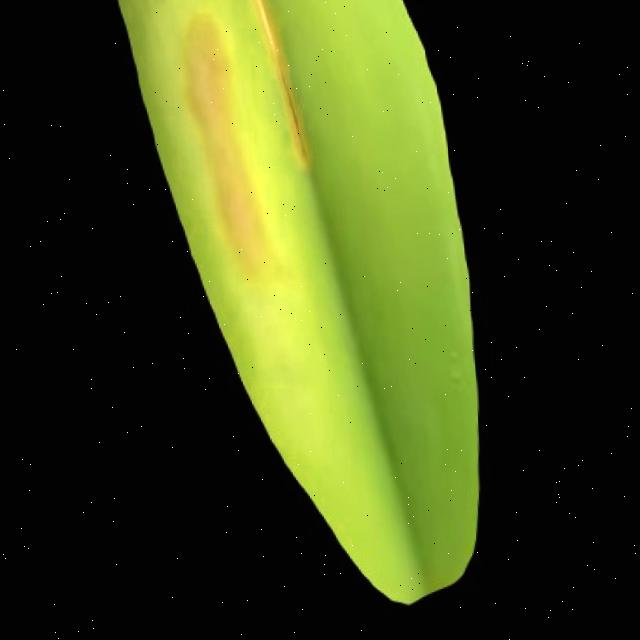mite: (105, 0, 490, 611), (177, 12, 239, 131), (427, 329, 478, 400), (439, 344, 469, 387), (440, 347, 462, 363)
sunburn: (173, 8, 285, 291)
